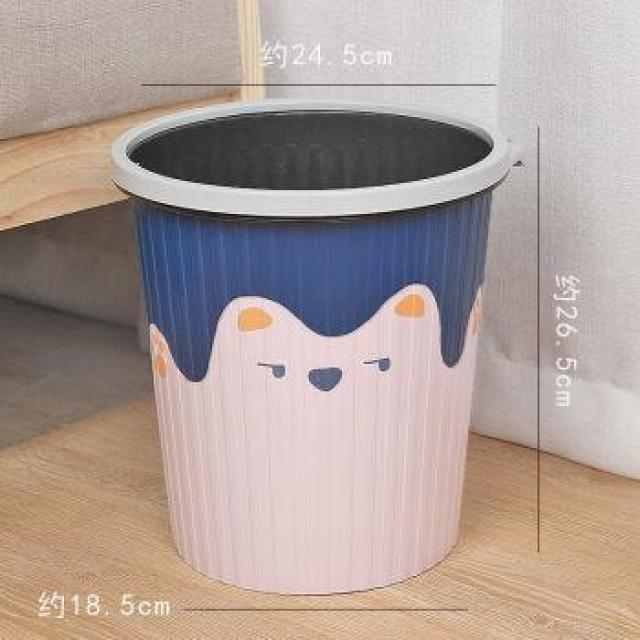dustbin: (107, 94, 528, 602)
